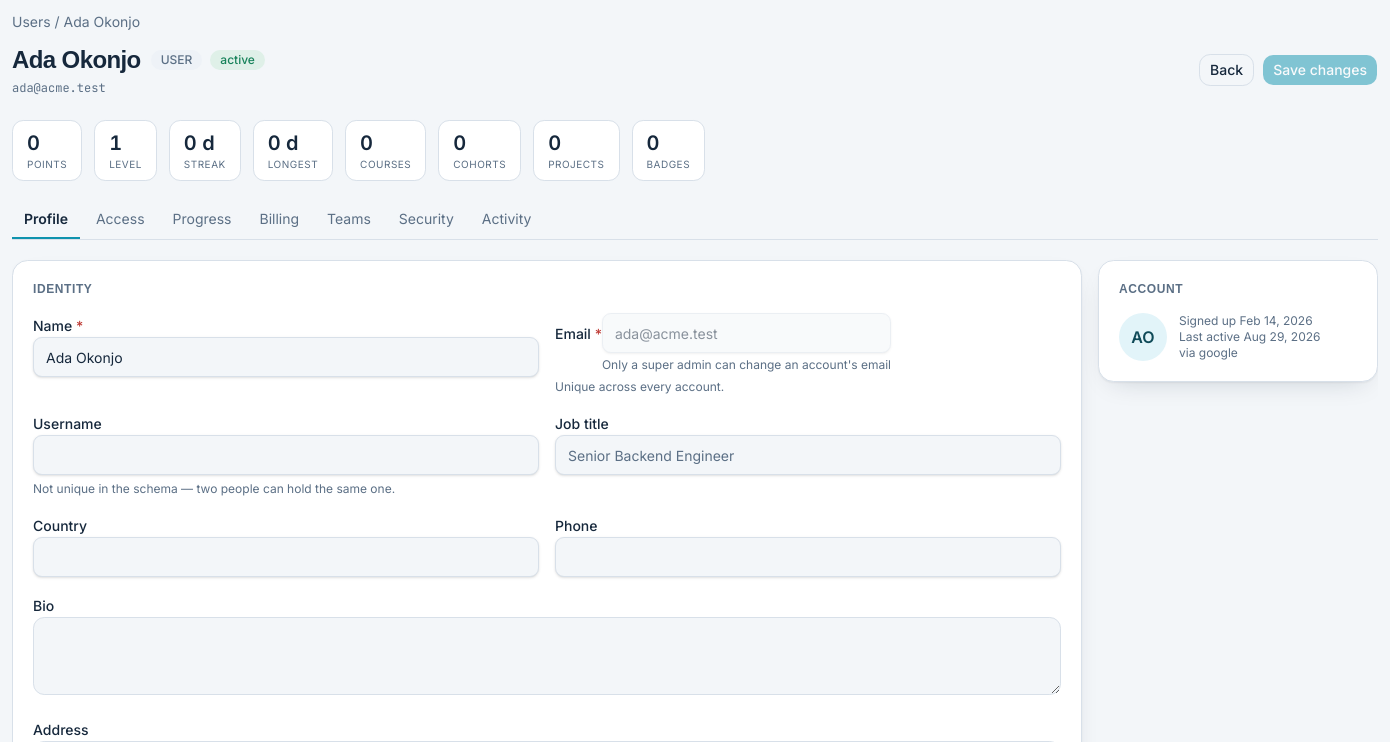
Test: the teams tab › lists the teams they belong to
Click the tab "Teams" at (349, 220), box [315,201,383,239]
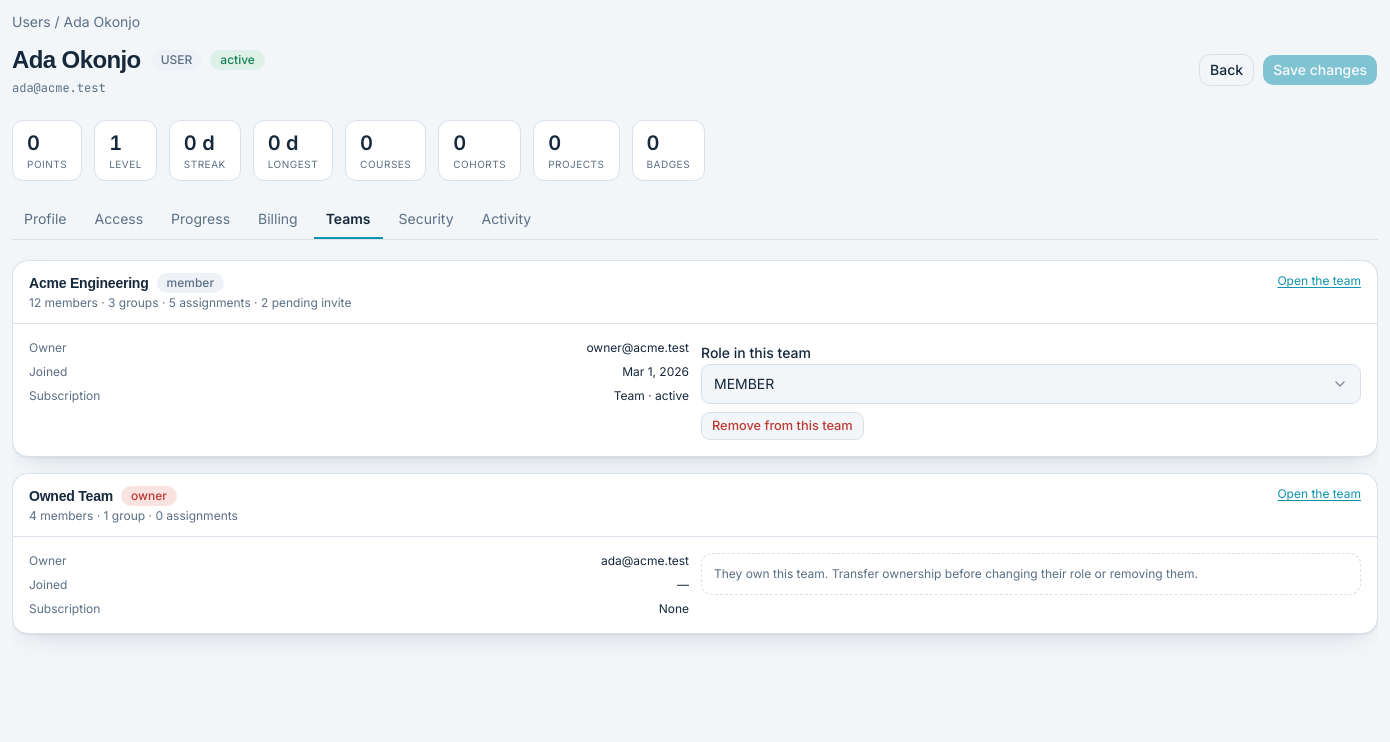
Result: the heading "Acme Engineering" is shown at [29,273,149,293]
Result: the text "12 members · 3 groups · 5 assignments · 2 pending invite" is shown at [29,295,351,311]
